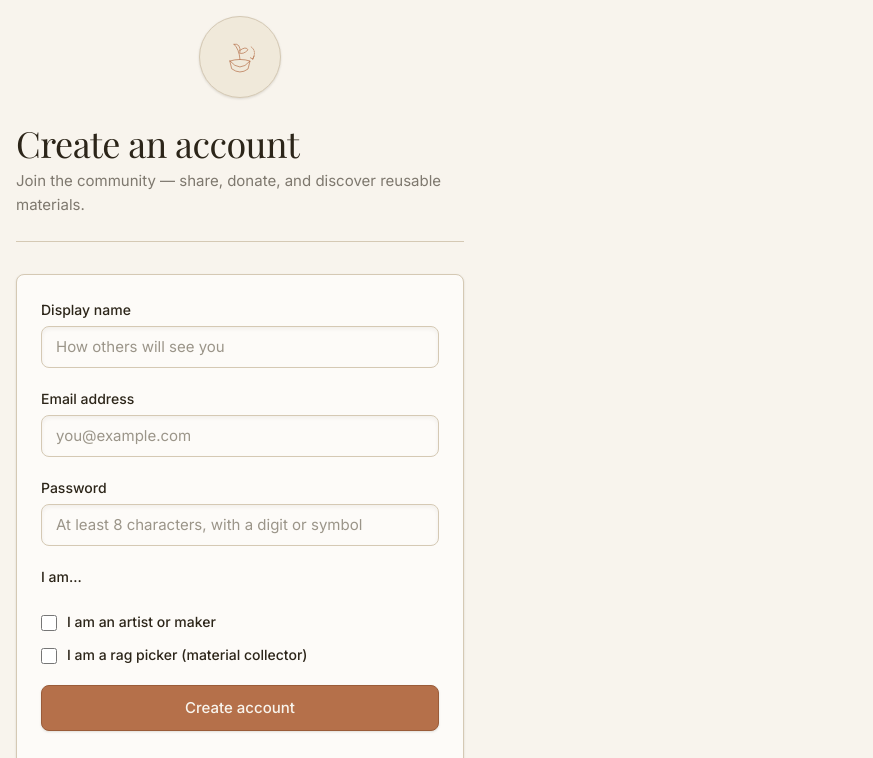
Test case: RegisterPage › shows email taken error when API returns 409
Type "Alice" into the field labelled "Display name" at (240, 347), box [41,326,439,368]
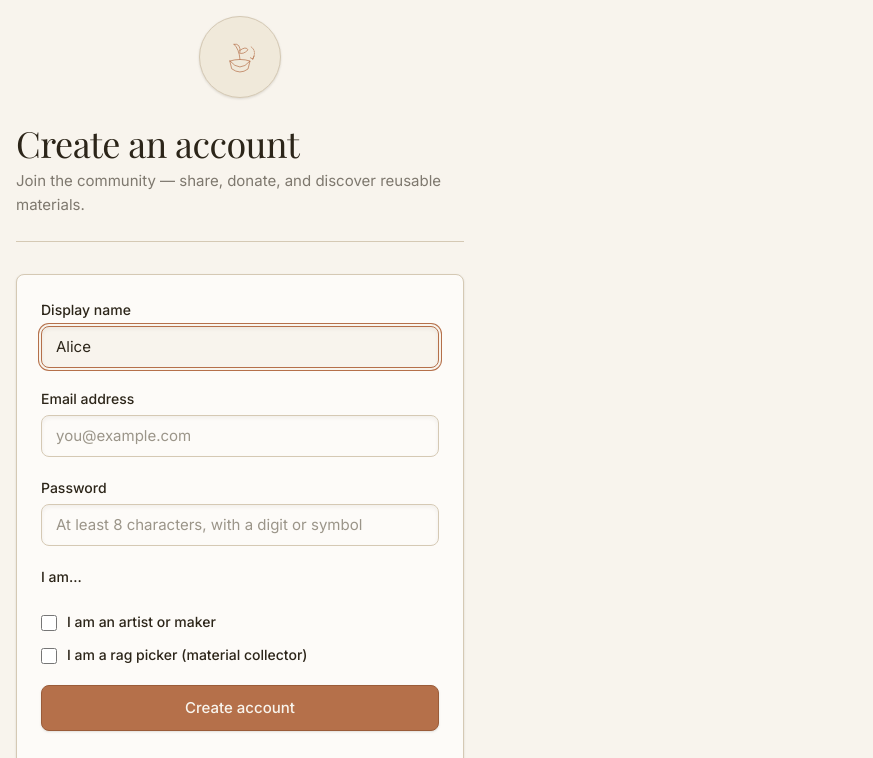
Type "alice@example.com" into the field labelled "Email address" at (240, 436), box [41,415,439,457]
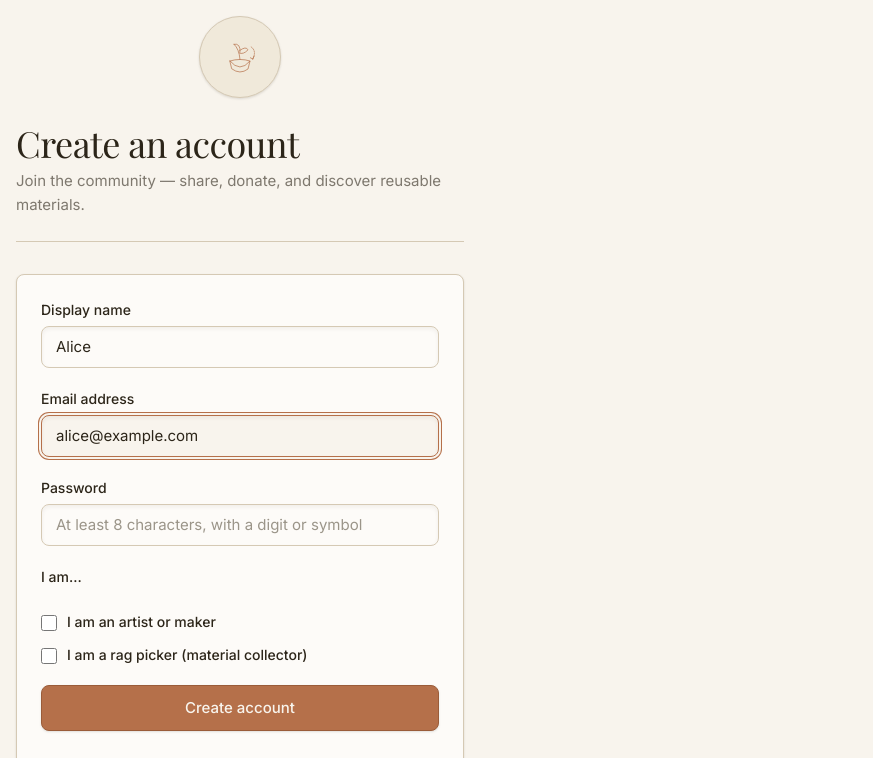
Type "SecurePass1" into the password field labelled "Password" at (240, 525), box [41,504,439,546]
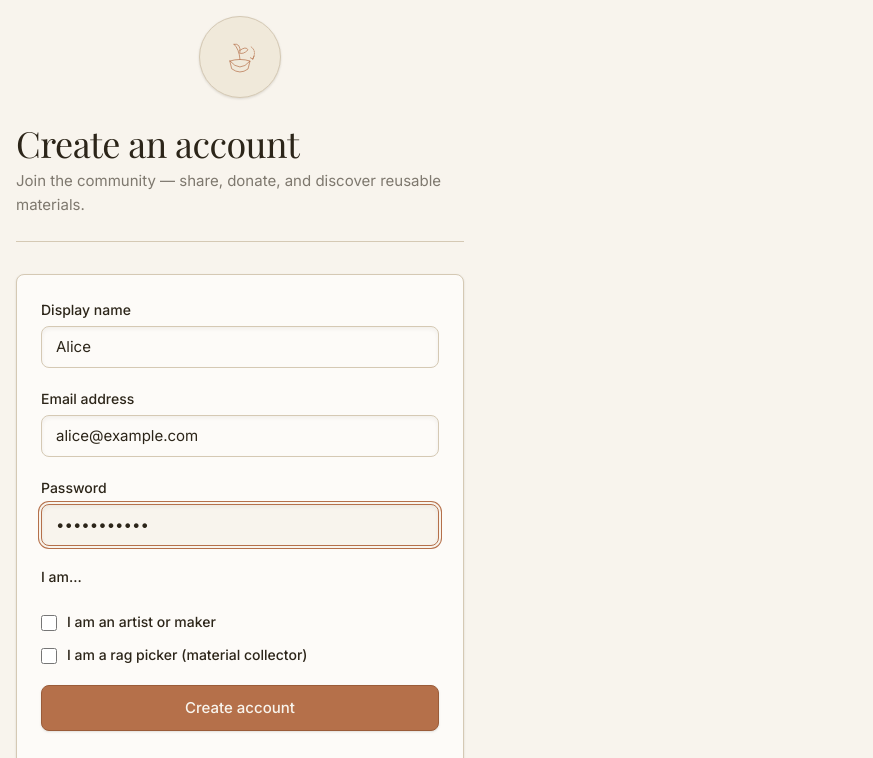
Click the button "Create account" at (240, 708), box [41,685,439,731]
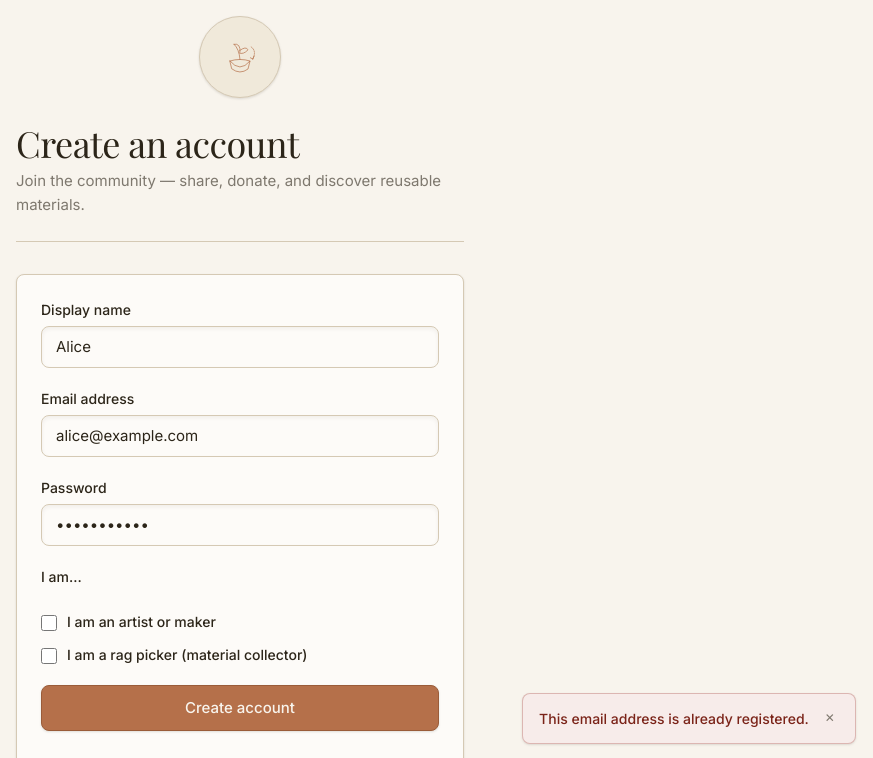
Now the text "This email address is already registered." is shown, box [539,708,809,729]
